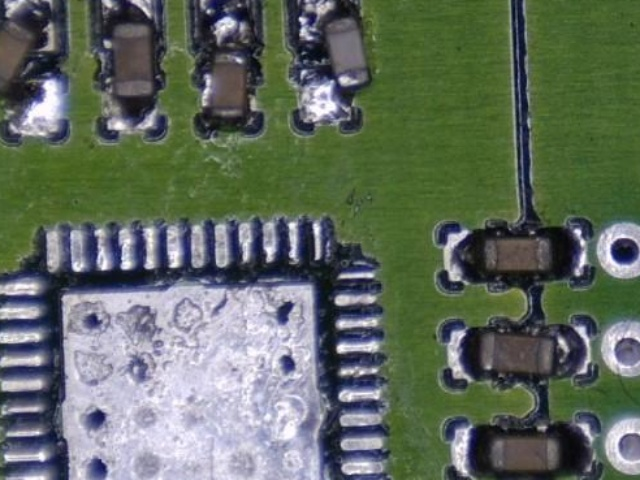pcb_defect: (296, 0, 371, 124), (0, 0, 61, 136), (197, 0, 254, 126)
